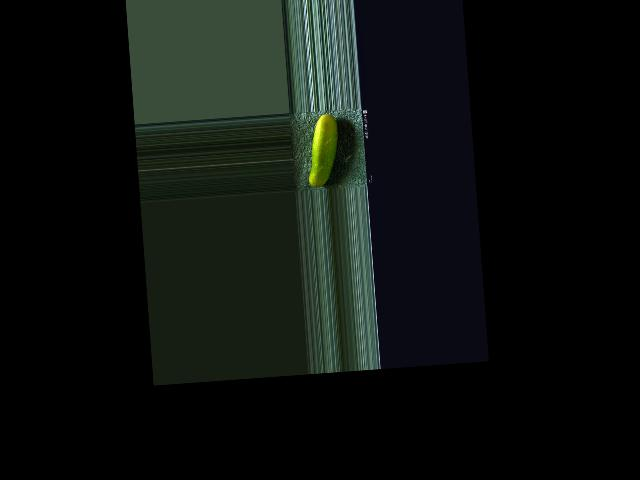cucumber: (304, 113, 341, 188)
